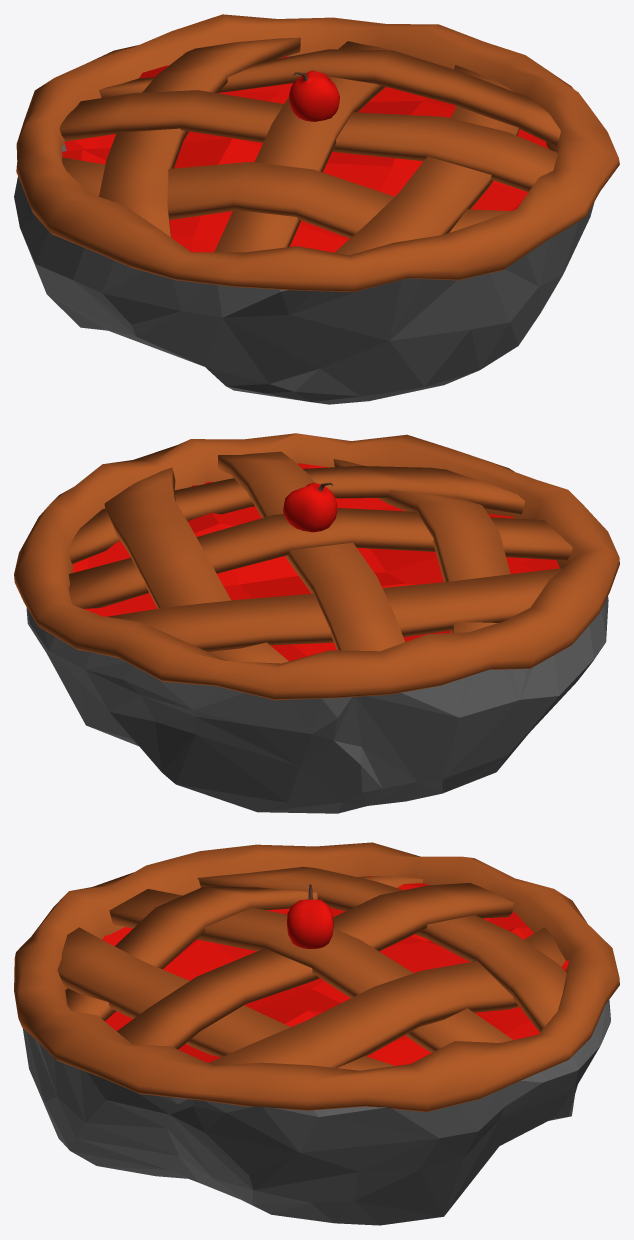
Rendered from pie.fbx.
3 views of the same model, one above another, from view 1: azimuth 30°, elevation 25°; view 2: azimuth 150°, elevation 25°; view 3: azimuth 270°, elevation 25° (orthographic).
Visible parts, largest first — view 1: 동물농장 파이_돌그릇; view 2: 동물농장 파이_돌그릇; view 3: 동물농장 파이_돌그릇.
Part boxes in pixels (x1,y1,x2,y2): 동물농장 파이_돌그릇: (14, 14, 619, 404); 동물농장 파이_돌그릇: (14, 433, 619, 813); 동물농장 파이_돌그릇: (14, 842, 619, 1225).
Size of the model in its own units: 210 by 105 by 209.
